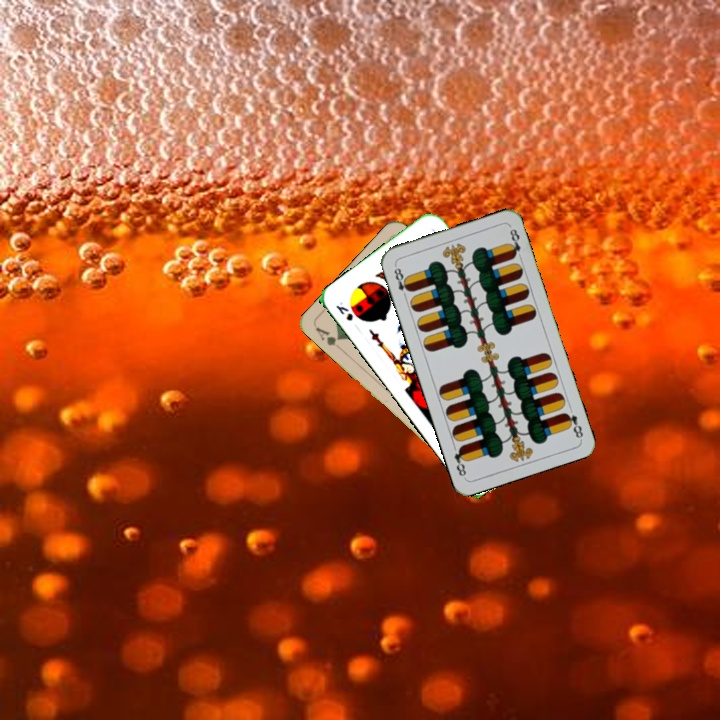E8: (390, 261, 413, 301), (560, 409, 586, 442)
GA: (311, 323, 345, 352)
SK: (332, 298, 356, 324)
